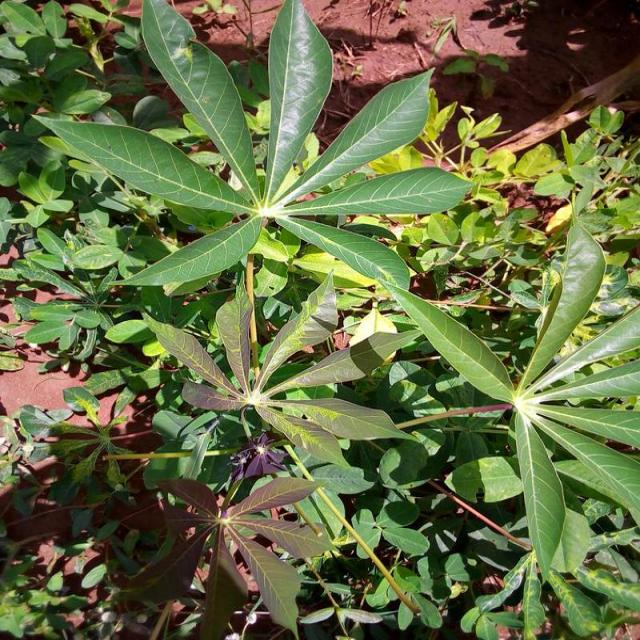cassava leaf: (140, 0, 262, 204), (264, 0, 334, 204)
